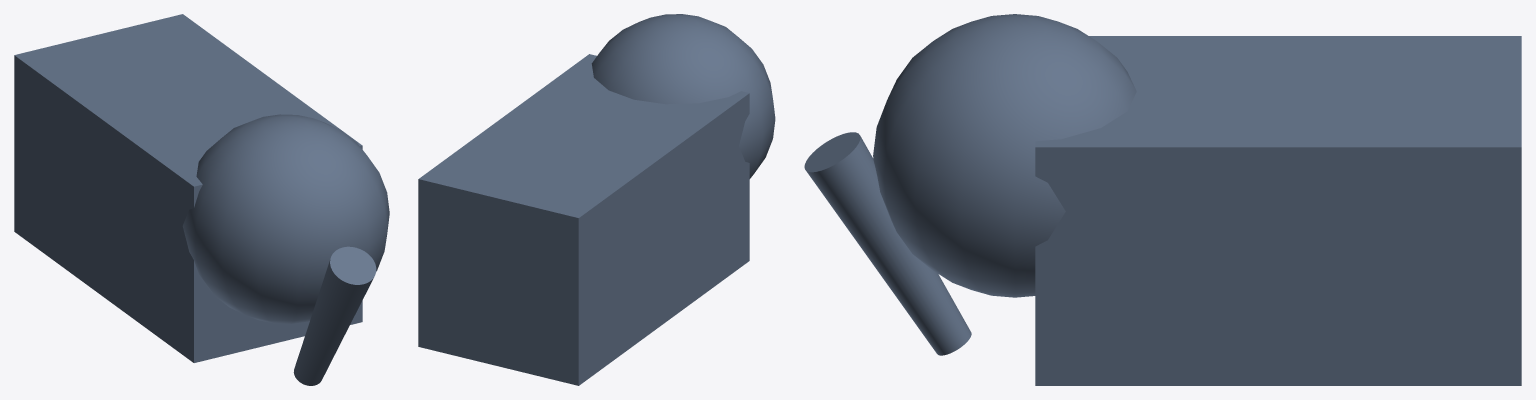
The model's file is elephant.glb.
3 renders of one model, left to right at view 1: azimuth 30°, elevation 25°; view 2: azimuth 150°, elevation 25°; view 3: azimuth 270°, elevation 25°, orthographic. The views are drawn at different scales.
Size of the model in its own units: 0.3956 by 0.5001 by 1.
